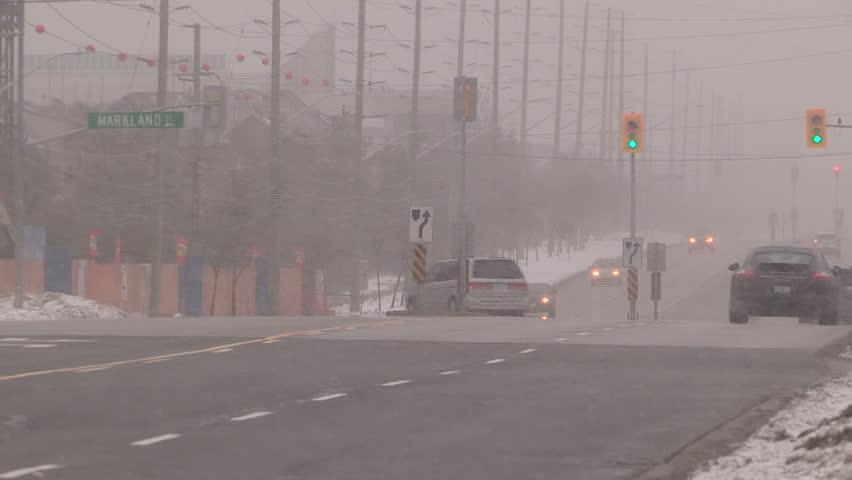car: (729, 243, 838, 325), (401, 255, 529, 317), (511, 281, 557, 319), (588, 257, 627, 286), (686, 227, 717, 254), (811, 233, 841, 256)
